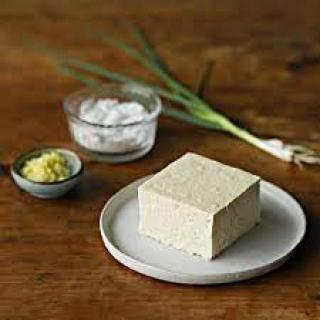Tahu: (133, 144, 277, 269)
